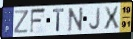F: (29, 7, 47, 35)
J: (89, 7, 102, 31)
N: (68, 6, 85, 33)
T: (52, 8, 66, 33)
X: (103, 5, 121, 31)
Z: (13, 10, 30, 35)
